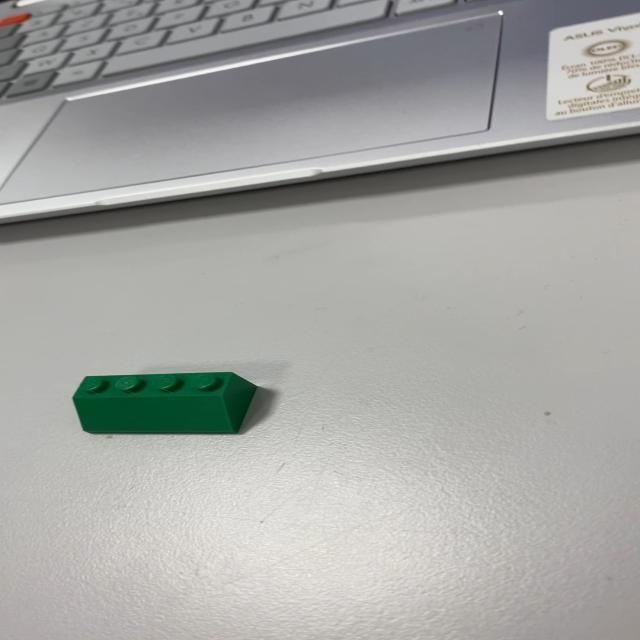P4x2x1: (70, 370, 258, 435)
